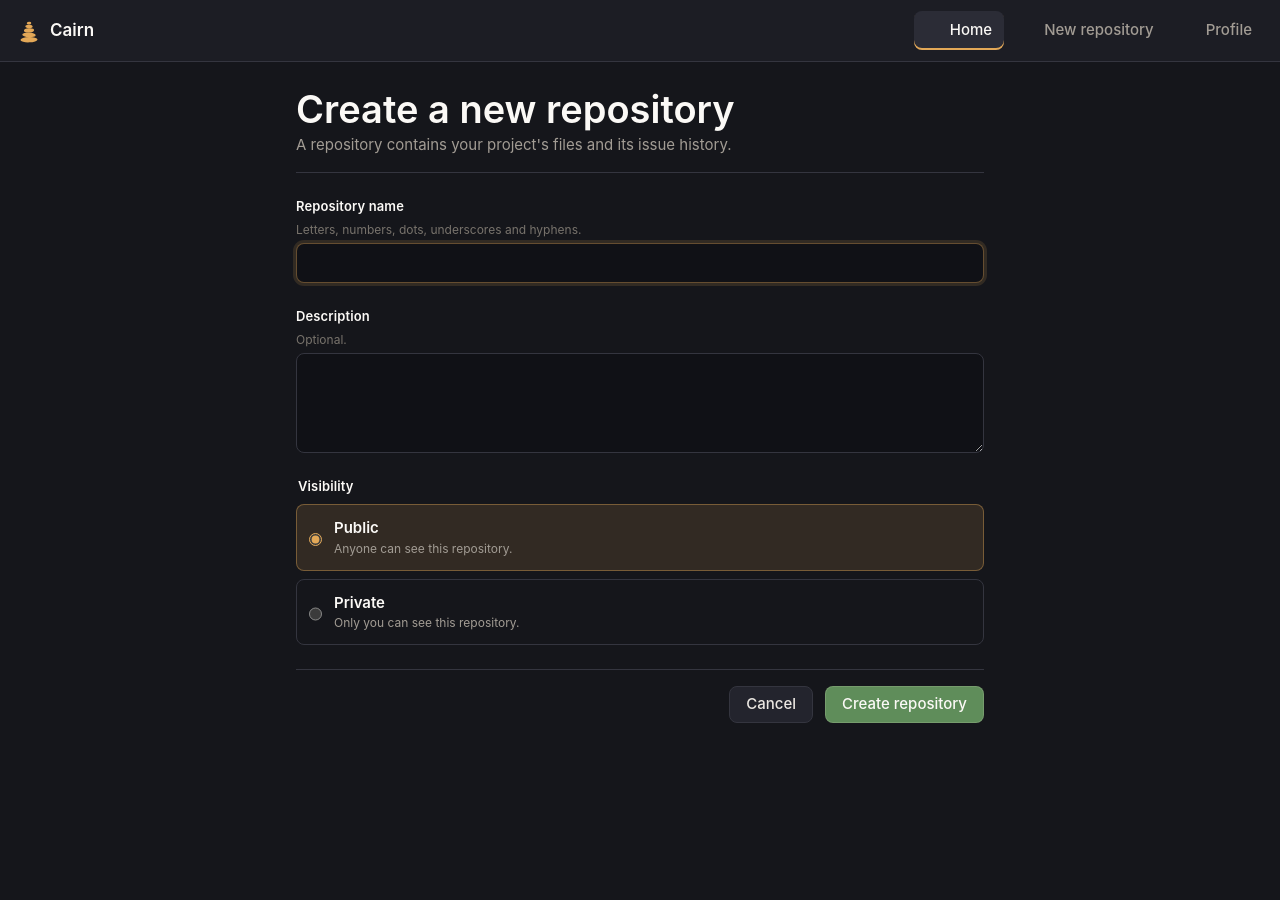
CreateRepository › requires a name
Click the button "Create repository" at coordinates (904, 704), box [825,686,984,722]
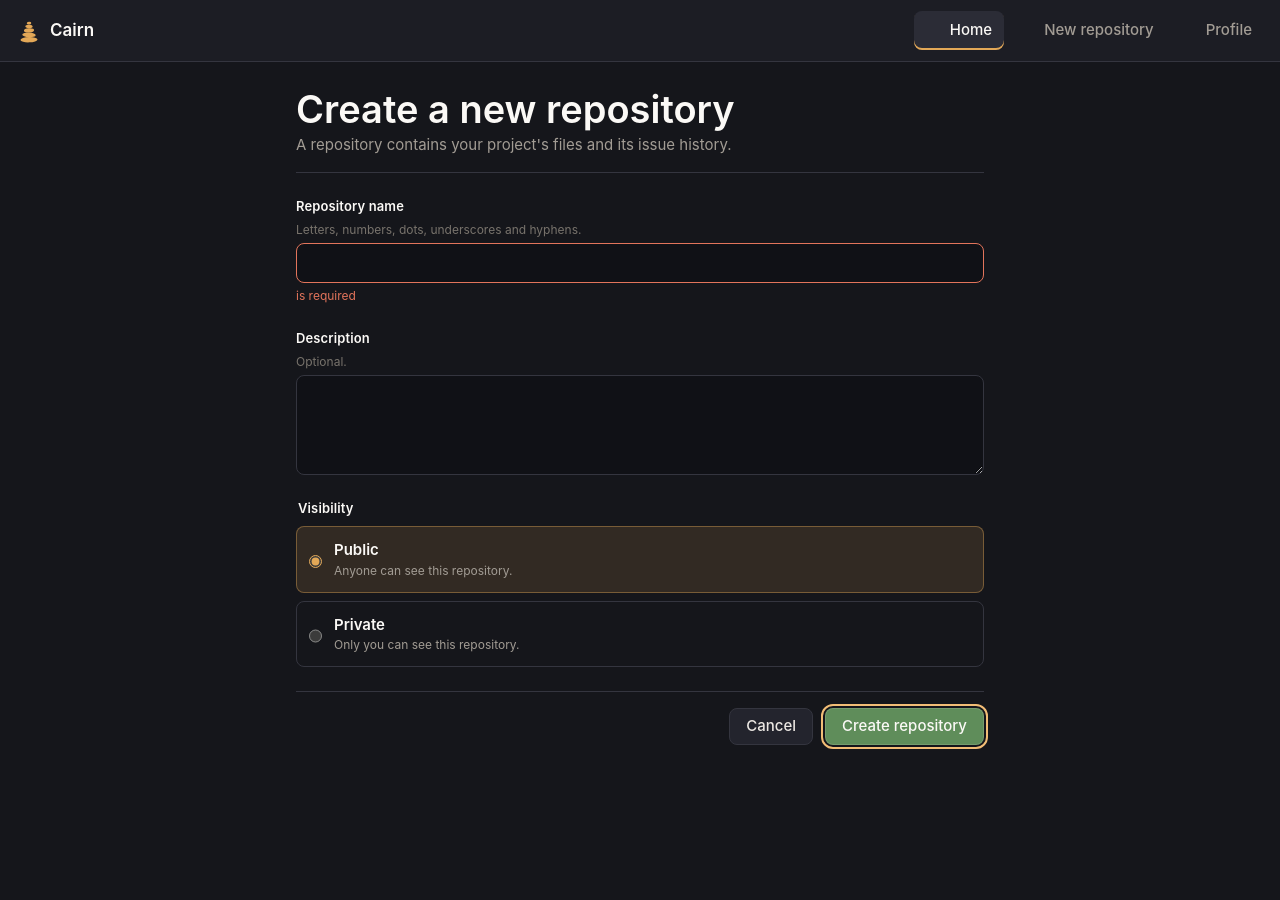
Now the text "is required" is shown, box [296,288,356,303]
